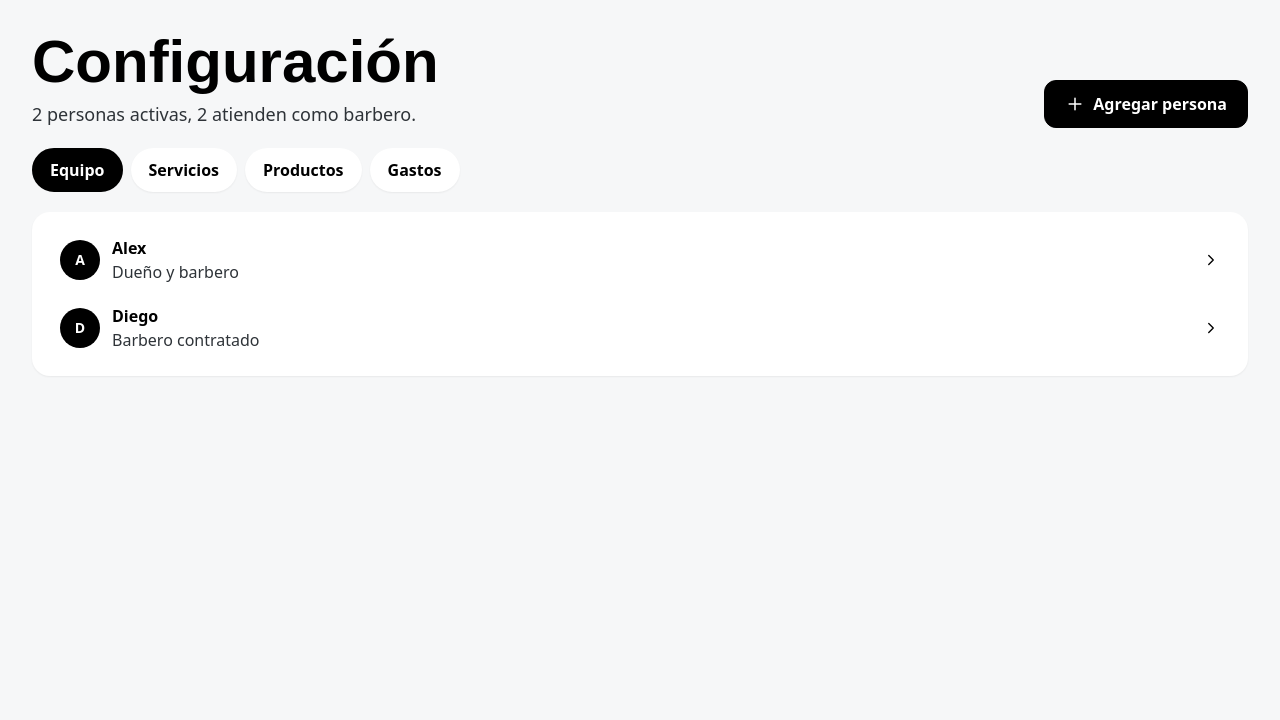
Test: ConfigurationPage › tells the owner that their own work does not earn commission
Click the button "A Alex Dueño y barbero" at (80, 260), box [48,228,1232,292]
(page scrolled)
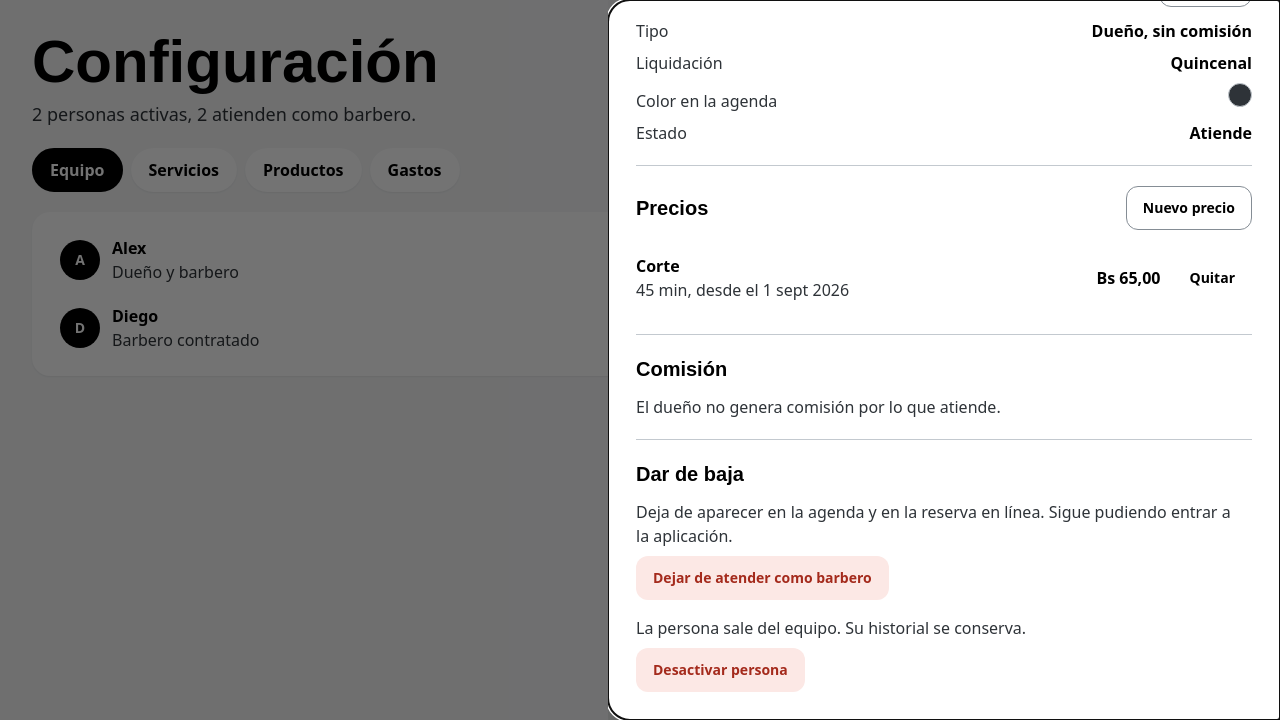
Result: the text "El dueño no genera comisión por lo que atiende." is shown at [636,396,1001,418]
